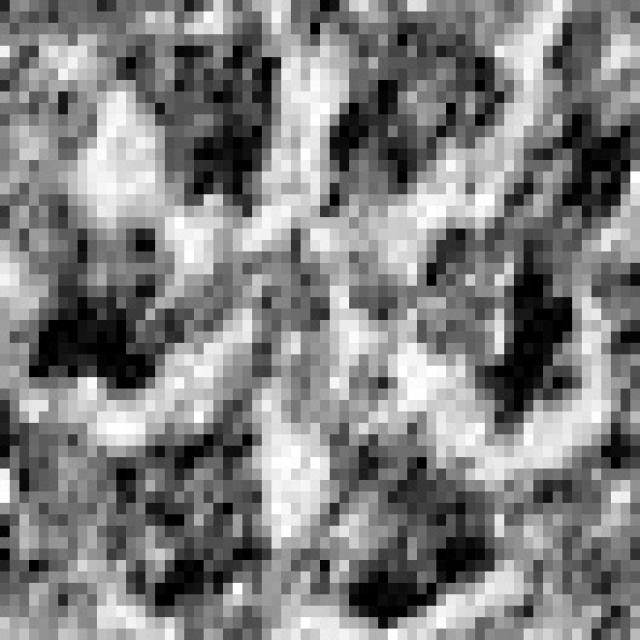inner: (192, 213, 425, 445)
lobe: (85, 394, 280, 640), (292, 417, 509, 626), (315, 30, 525, 222), (415, 222, 588, 450), (27, 222, 206, 403), (127, 23, 288, 216)
outer: (3, 0, 640, 640)
